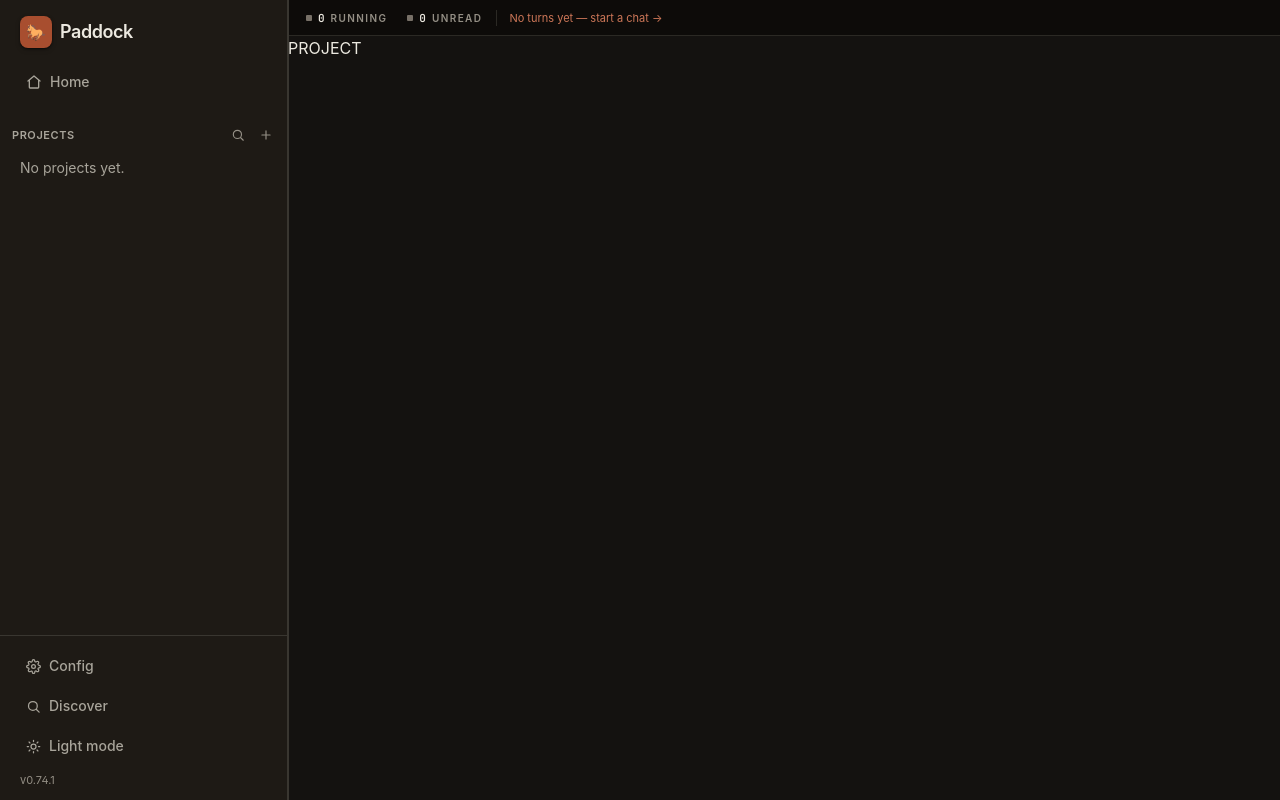
AppShell: navigation › the Home link routes to `/`, the root workspace's Home
Expected: the text "PROJECT" is shown, [288,38,362,58]
Click the link "Home" at (58, 82), box [26,73,90,90]
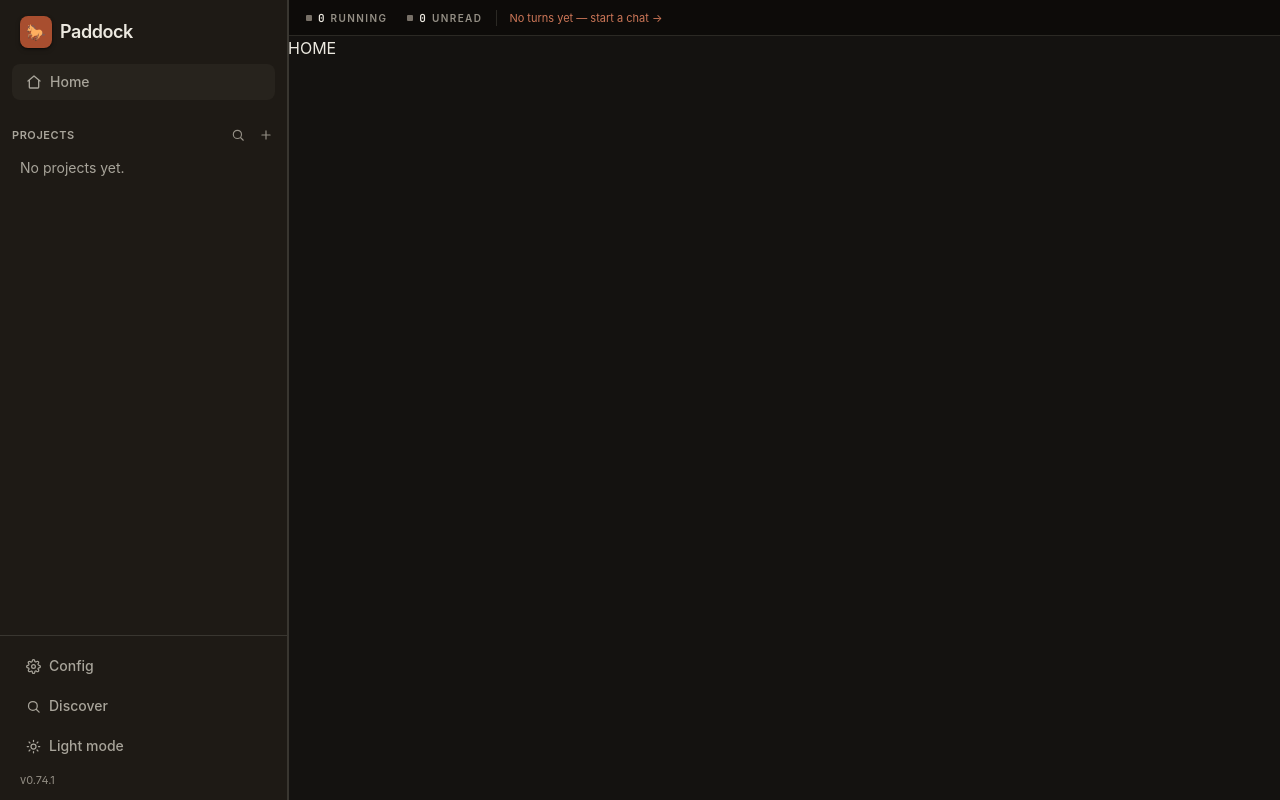
Expected: the text "HOME" is shown, [288,38,336,58]
